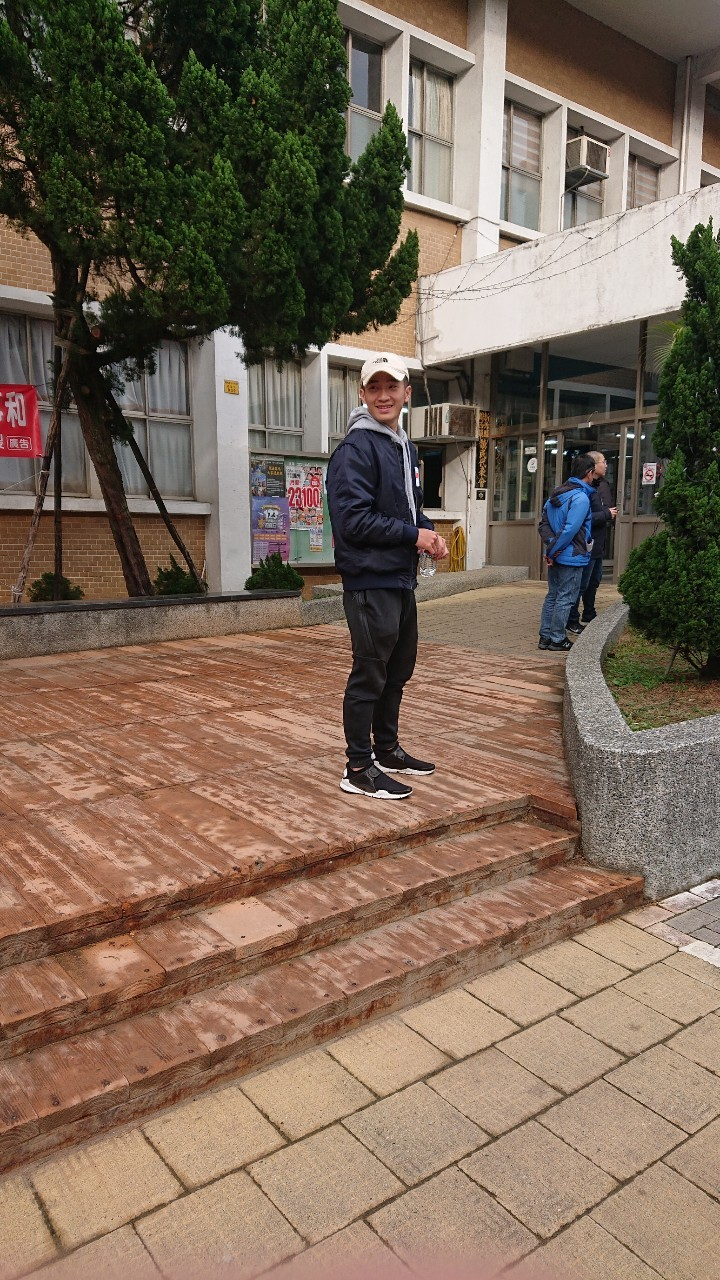people: (324, 347, 452, 812), (536, 445, 593, 657), (581, 445, 626, 637)
